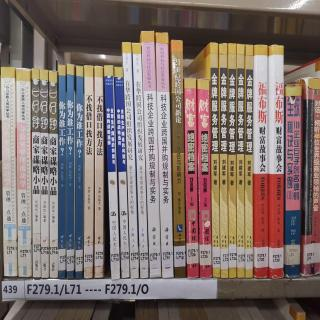book-spine: (140, 30, 162, 278), (130, 43, 151, 280), (120, 40, 140, 279), (155, 34, 174, 279), (103, 66, 122, 281), (112, 65, 130, 281), (170, 38, 186, 280), (15, 67, 33, 279), (253, 45, 269, 280), (183, 73, 200, 278), (195, 80, 212, 279), (285, 84, 302, 278), (2, 66, 17, 278), (208, 41, 221, 280), (271, 45, 284, 279), (305, 77, 320, 277), (218, 43, 229, 279), (55, 64, 67, 279), (83, 63, 94, 279), (38, 69, 49, 278), (244, 40, 253, 281), (74, 65, 84, 278), (228, 42, 237, 278), (30, 68, 40, 280), (93, 66, 103, 278), (48, 70, 58, 276), (65, 63, 74, 279), (237, 42, 245, 279)
